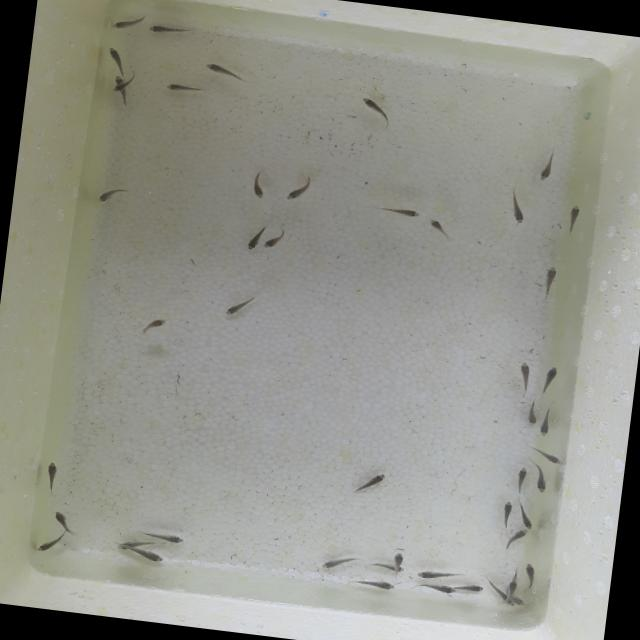fingerling: (135, 524, 195, 550), (370, 200, 422, 224), (354, 93, 394, 124), (414, 564, 464, 584), (36, 528, 70, 557), (123, 544, 169, 565), (94, 184, 134, 207), (201, 60, 245, 80), (562, 200, 584, 238), (222, 294, 254, 320), (538, 263, 561, 299), (318, 552, 358, 572), (347, 576, 397, 592), (426, 216, 456, 242), (357, 469, 388, 494), (146, 22, 192, 38), (283, 177, 311, 203), (109, 14, 145, 34), (138, 314, 168, 338), (536, 150, 558, 182), (162, 80, 206, 96), (248, 168, 270, 200), (530, 464, 552, 495), (42, 460, 62, 494), (263, 226, 289, 252), (514, 360, 534, 393), (244, 222, 266, 252), (111, 72, 138, 96), (104, 44, 127, 72), (49, 508, 74, 533), (416, 580, 457, 595), (521, 560, 539, 594), (540, 363, 561, 392), (516, 500, 536, 530), (508, 198, 528, 226), (533, 448, 564, 466), (498, 498, 514, 529), (537, 407, 553, 438), (506, 526, 530, 545), (514, 464, 529, 490), (524, 404, 540, 427), (390, 552, 409, 571), (456, 581, 484, 593), (508, 577, 520, 595), (510, 596, 528, 607)
